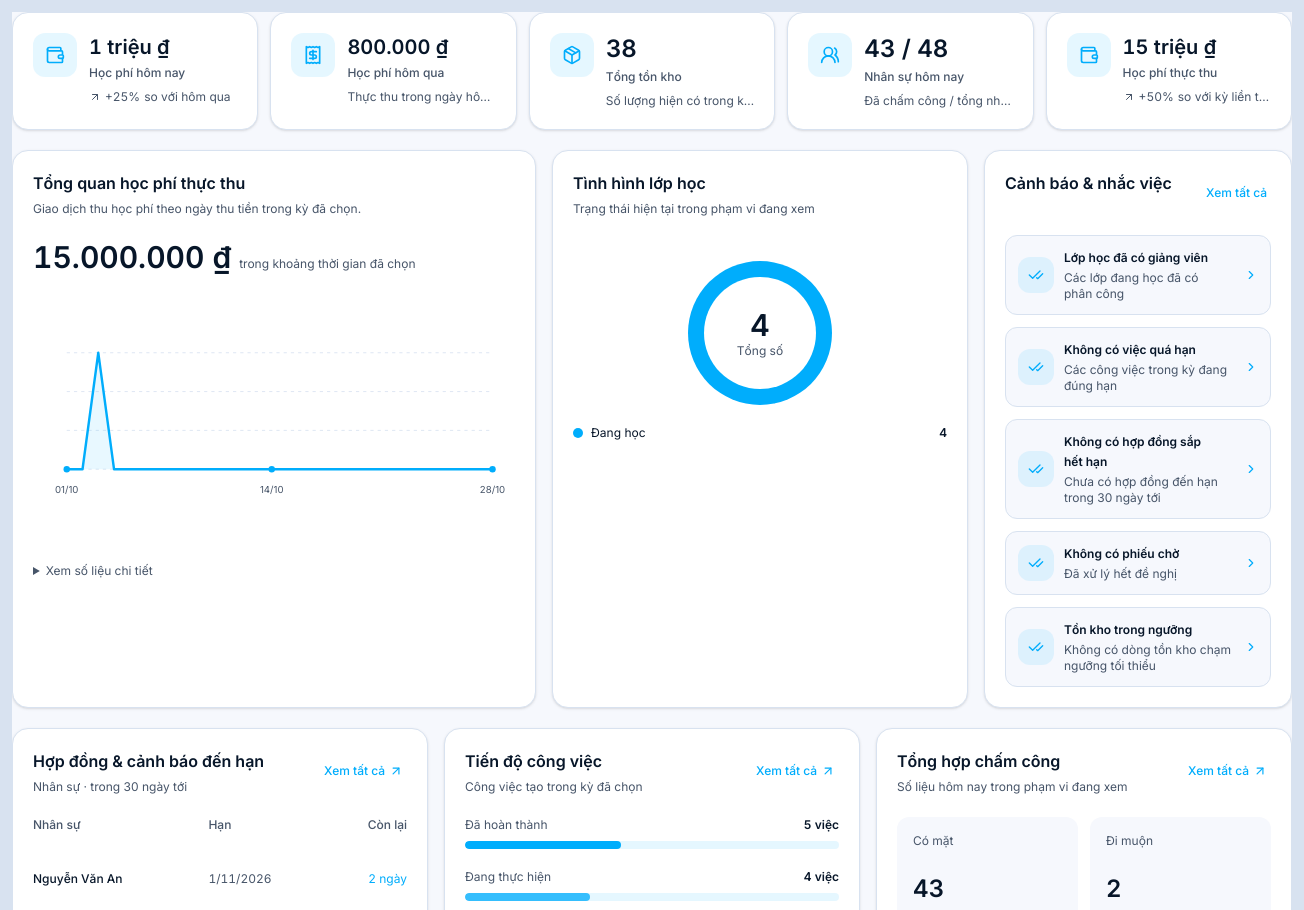
business dashboard content › shows healthy module states and expands the alert list on request
Check: the text "Không có việc quá hạn" is shown, box [1064, 342, 1196, 357]
Click the button "Xem tất cả" next to "Cảnh báo & nhắc việc" at [1237, 193], box [1202, 171, 1271, 215]
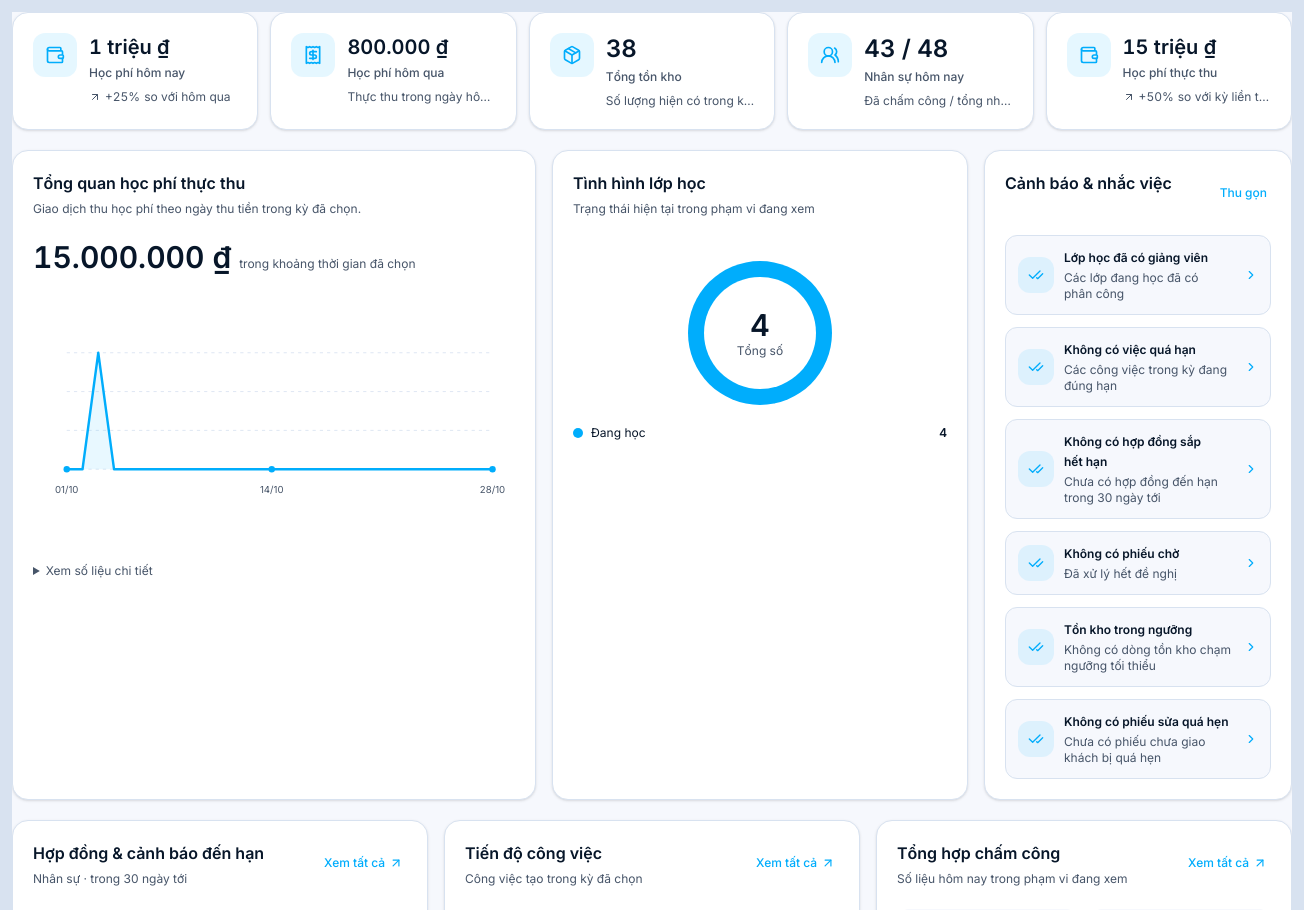
Check: the button "Thu gọn" is expanded, box [1216, 171, 1271, 215]
Check: the text "Không có phiếu sửa quá hẹn" is shown, box [1064, 712, 1234, 732]
